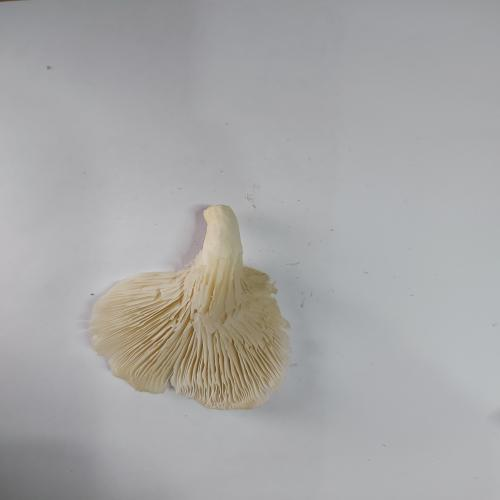Oyster Mushroom: (88, 203, 292, 411)
